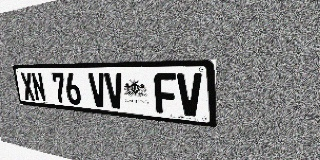6: (64, 73, 82, 105)
7: (51, 73, 68, 104)
F: (154, 73, 178, 115)
N: (31, 73, 47, 102)
V: (177, 73, 203, 117), (104, 73, 125, 110), (88, 73, 108, 108)
X: (20, 73, 36, 101)
